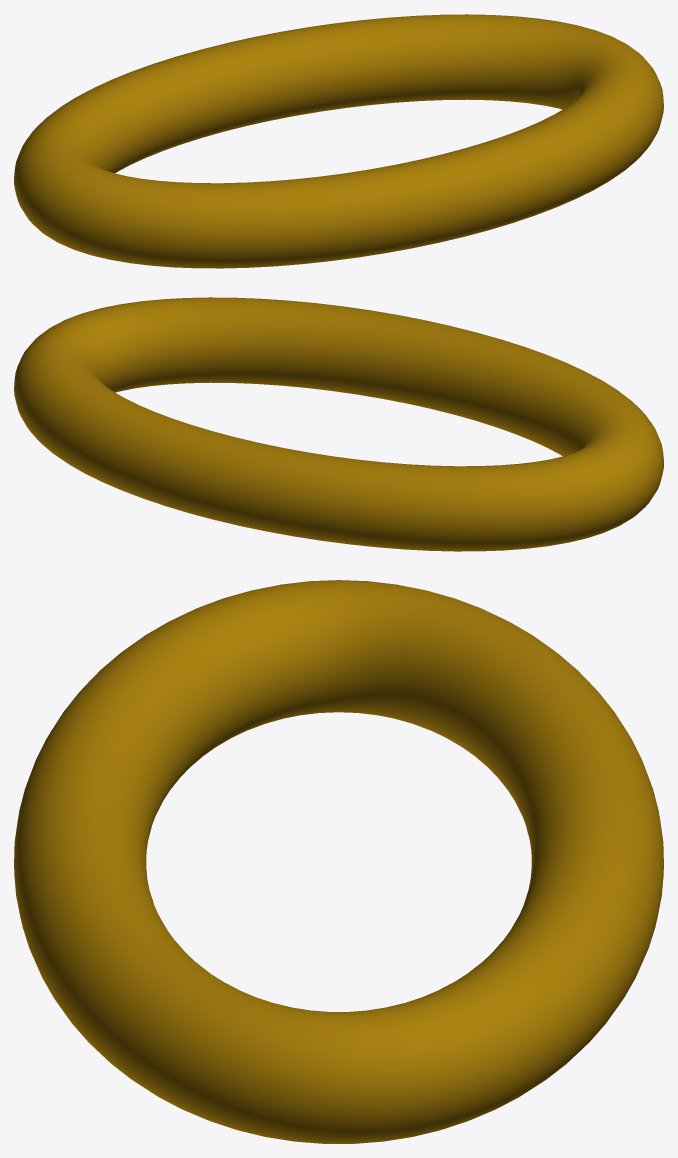
File: rope_b.dae
The picture shows the model from 3 angles, top to bottom: view 1: azimuth 30°, elevation 25°; view 2: azimuth 150°, elevation 25°; view 3: azimuth 270°, elevation 25°; orthographic projection. The views are drawn at different scales.
Parts seen in each view (by area): view 1: ID2; view 2: ID2; view 3: ID2.
Boxes of the visible parts, x1,y1,x2,y2 form: ID2: [14, 14, 663, 268]; ID2: [14, 297, 663, 551]; ID2: [14, 580, 663, 1143].
Bounding box in the file's own units: 0.0415 × 0.0246 × 0.006.
